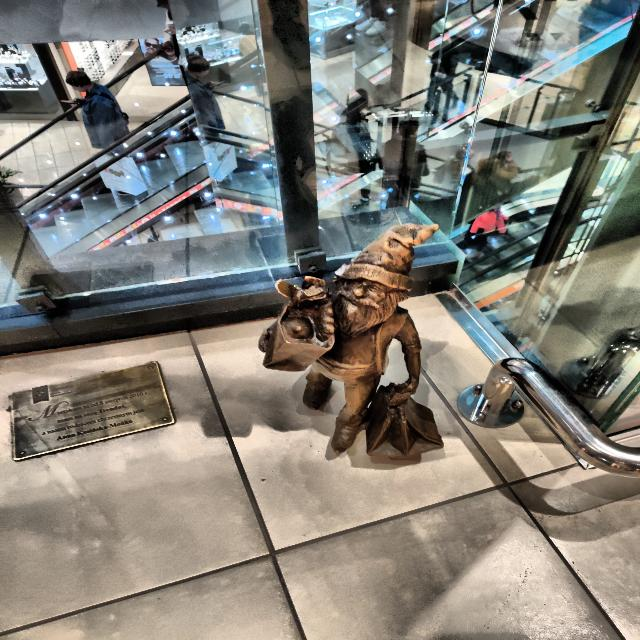Trendus: (258, 224, 444, 461)
